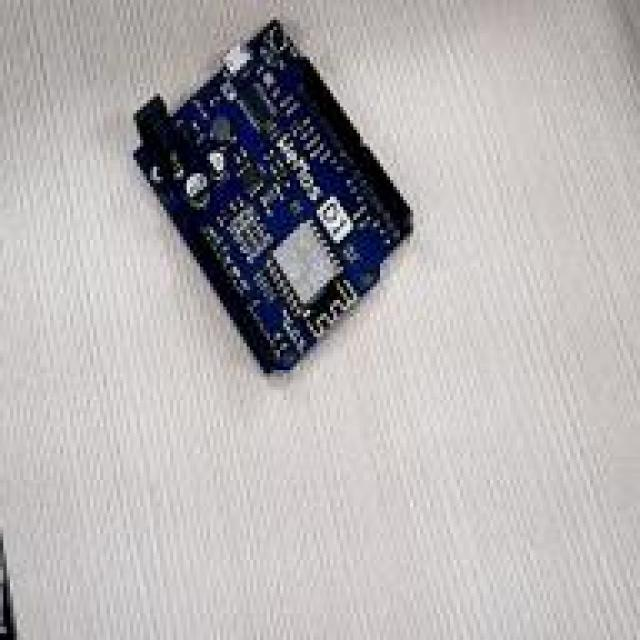Wemos: (138, 21, 408, 371)
